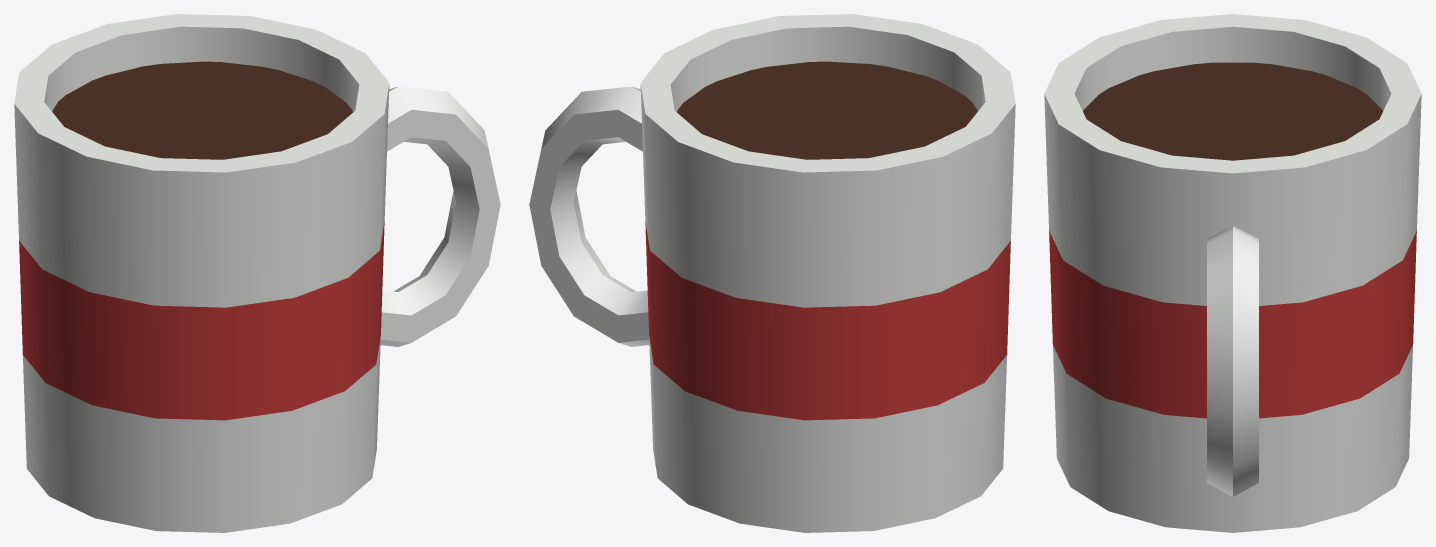
Rendered from coffee-mug.glb.
3 views of the same model, side by side, from view 1: azimuth 30°, elevation 25°; view 2: azimuth 150°, elevation 25°; view 3: azimuth 270°, elevation 25° (orthographic).
Visible parts, largest first — view 1: Mug, Coffee; view 2: Mug, Coffee; view 3: Mug, Coffee.
Boxes of the visible parts, x1=… form: Mug: x1=14, y1=14, x2=500, y2=532; Coffee: x1=52, y1=61, x2=352, y2=159; Mug: x1=529, y1=14, x2=1015, y2=532; Coffee: x1=677, y1=61, x2=977, y2=159; Mug: x1=1044, y1=14, x2=1421, y2=532; Coffee: x1=1083, y1=62, x2=1382, y2=160.
Bounding box in the file's own units: 0.2106 × 0.16 × 0.15.
